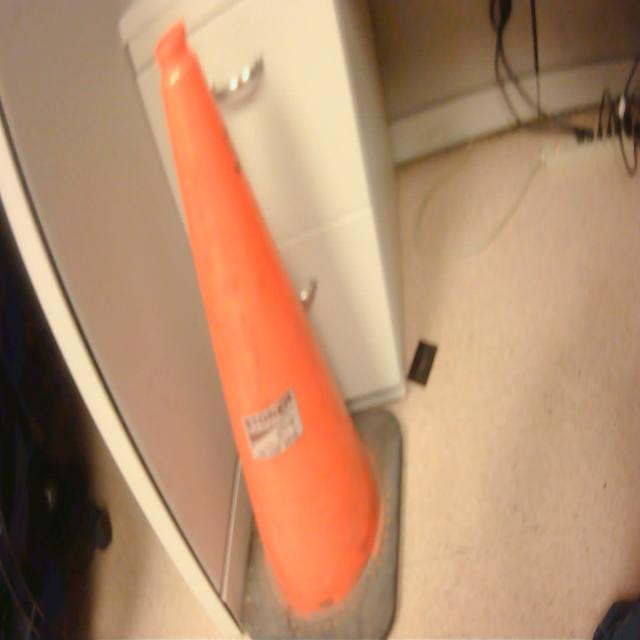traffic cone: (150, 7, 410, 640)
